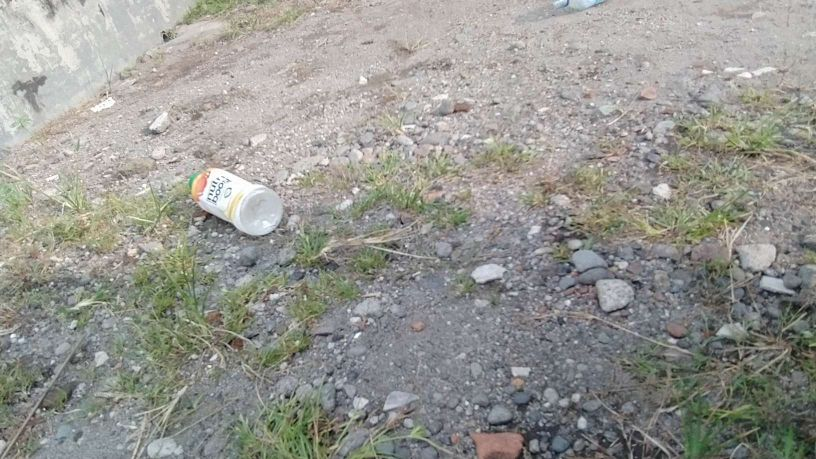botol: (178, 160, 296, 245)
